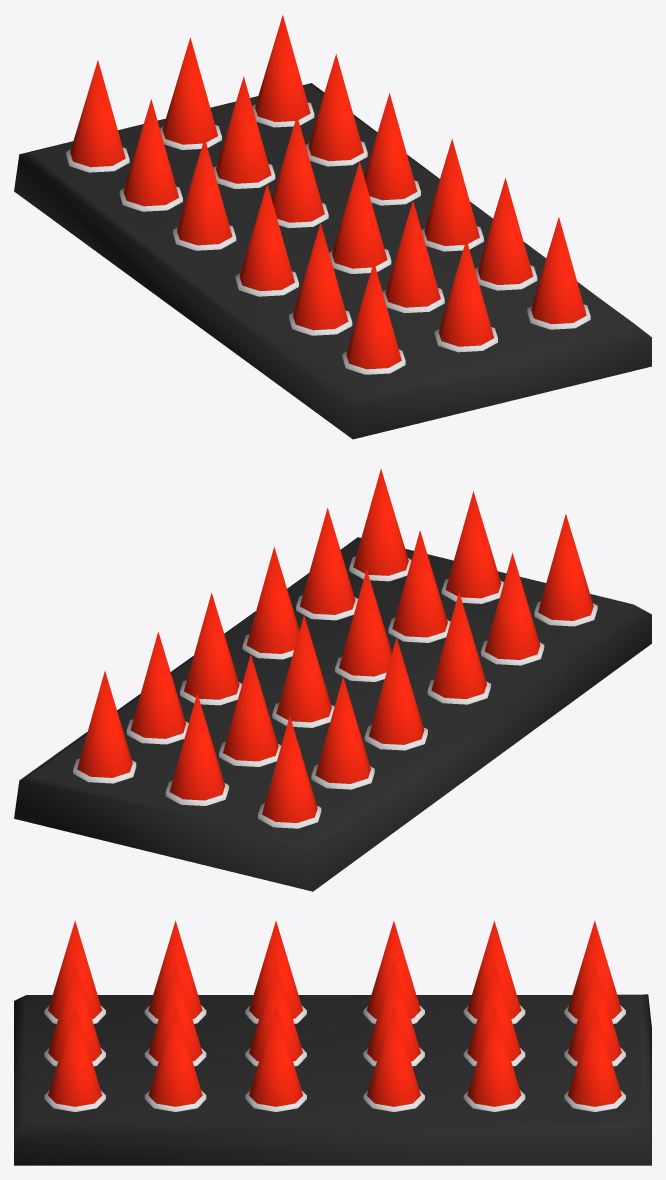
The model's file is blade 1.fbx.
The picture shows the model from 3 angles, top to bottom: view 1: azimuth 30°, elevation 25°; view 2: azimuth 150°, elevation 25°; view 3: azimuth 270°, elevation 25°; orthographic projection. The views are drawn at different scales.
Visible parts, largest first — view 1: spike-obstacle.001, spike-obstacle.003; view 2: spike-obstacle.001, spike-obstacle.003; view 3: spike-obstacle.001, spike-obstacle.003.
Part boxes in pixels (x1=…): spike-obstacle.001: x1=14, y1=83, x2=651, y2=439; spike-obstacle.003: x1=70, y1=15, x2=586, y2=369; spike-obstacle.001: x1=14, y1=537, x2=651, y2=891; spike-obstacle.003: x1=77, y1=469, x2=593, y2=822; spike-obstacle.001: x1=14, y1=994, x2=651, y2=1165; spike-obstacle.003: x1=48, y1=920, x2=621, y2=1106.
Bounding box in the file's own units: 236 × 106 × 463.
